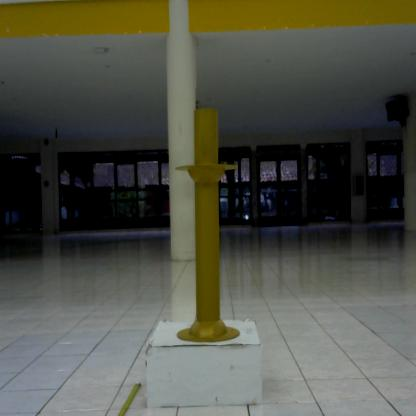pole: (175, 105, 243, 345)
